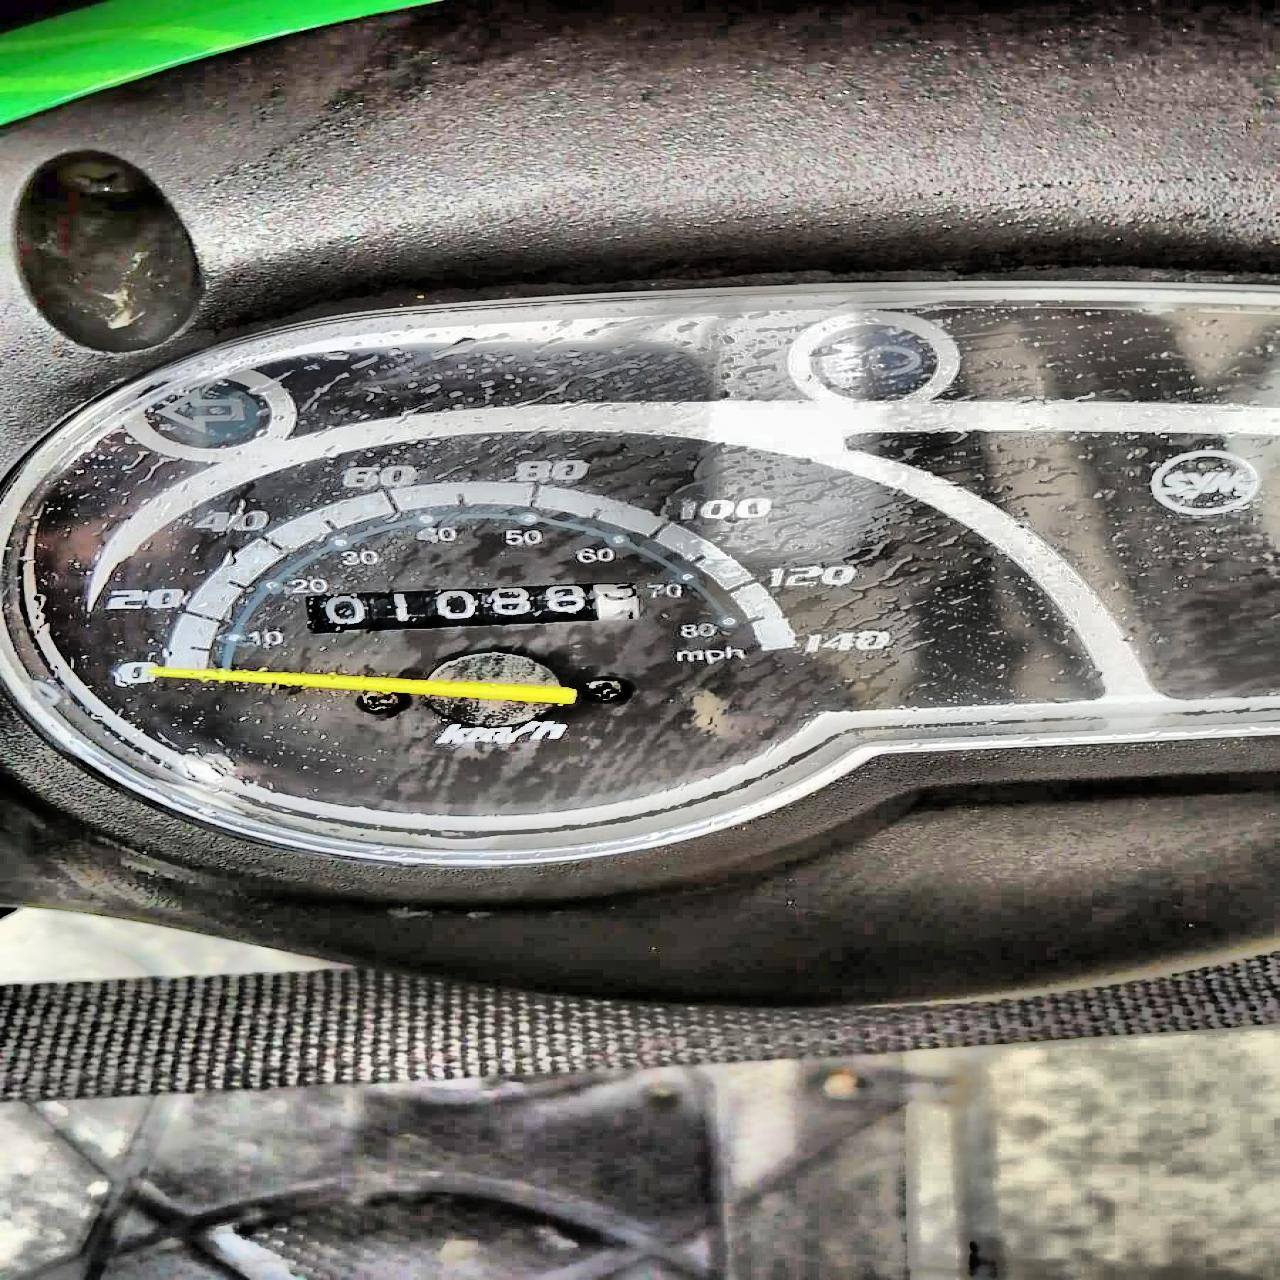0: (321, 594, 366, 625), (434, 588, 475, 619), (307, 577, 328, 593)
1: (389, 591, 409, 621)
3: (600, 578, 635, 600)
8: (490, 586, 531, 615), (545, 584, 585, 612)
odometer: (301, 580, 641, 634)
